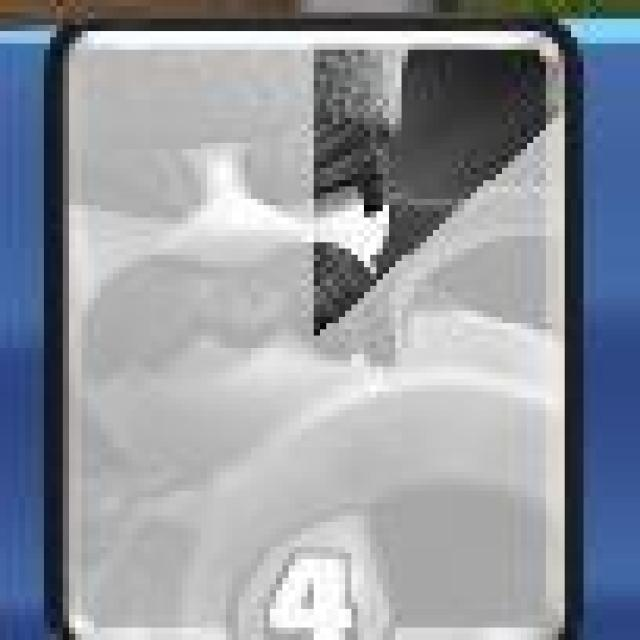Hunter: (45, 23, 584, 640)
